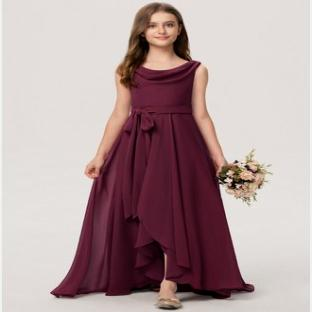Human: (52, 3, 254, 309)
